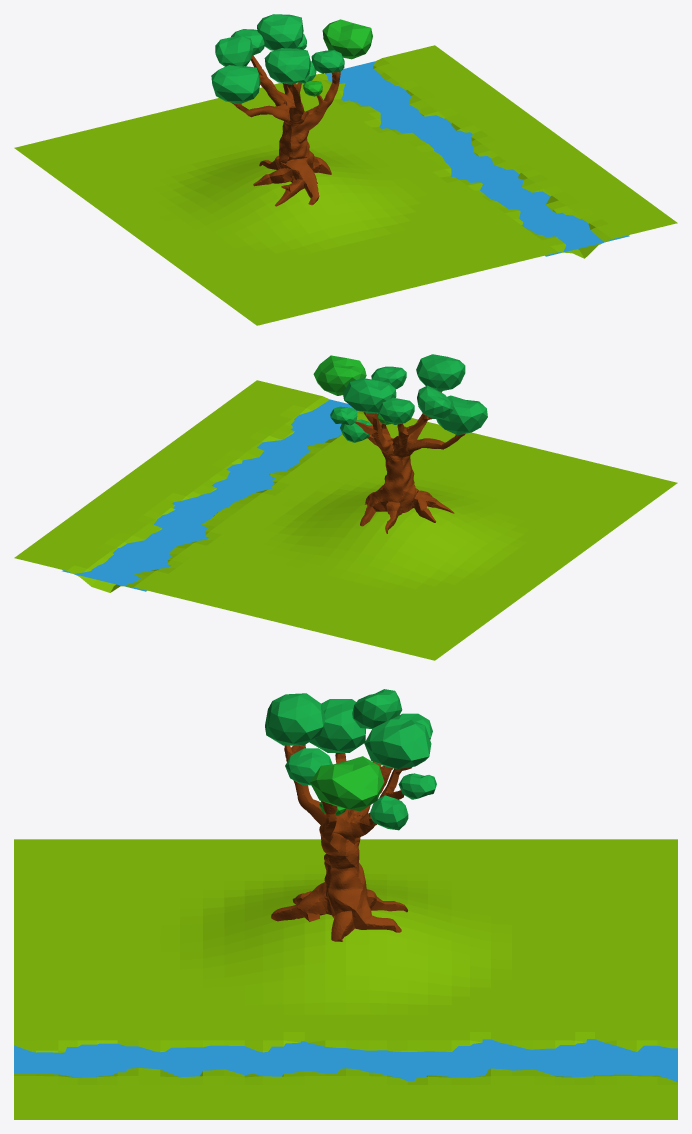
The model's file is 지형나무메테리얼.fbx.
3 renders of one model, top to bottom at view 1: azimuth 30°, elevation 25°; view 2: azimuth 150°, elevation 25°; view 3: azimuth 270°, elevation 25°, orthographic. The views are drawn at different scales.
Visible parts, largest first — view 1: Plane, Plane.001, Plane.003, Icosphere.011, Icosphere.001, Icosphere.005, Icosphere, Icosphere.008, Icosphere.002; view 2: Plane, Plane.001, Plane.003, Icosphere, Icosphere.001, Icosphere.005, Icosphere.011, Icosphere.008, Icosphere.007, Icosphere.002; view 3: Plane, Plane.001, Plane.003, Icosphere.001, Icosphere.005, Icosphere, Icosphere.011, Icosphere.008, Icosphere.002, Icosphere.012, Icosphere.010.
Part boxes in pixels (left/top/right/bottom): Plane: left=14, top=45, right=677, bottom=325; Plane.001: left=325, top=61, right=629, bottom=256; Plane.003: left=230, top=55, right=340, bottom=206; Icosphere.011: left=211, top=65, right=260, bottom=103; Icosphere.001: left=322, top=19, right=372, bottom=59; Icosphere.005: left=257, top=14, right=303, bottom=50; Icosphere: left=264, top=48, right=310, bottom=84; Icosphere.008: left=215, top=36, right=253, bottom=66; Icosphere.002: left=311, top=50, right=344, bottom=73; Plane: left=14, top=380, right=677, bottom=660; Plane.001: left=62, top=399, right=359, bottom=591; Plane.003: left=355, top=391, right=465, bottom=533; Icosphere: left=416, top=354, right=465, bottom=391; Icosphere.001: left=313, top=355, right=366, bottom=395; Icosphere.005: left=343, top=378, right=396, bottom=413; Icosphere.011: left=436, top=395, right=487, bottom=434; Icosphere.008: left=417, top=385, right=453, bottom=418; Icosphere.007: left=378, top=397, right=414, bottom=424; Icosphere.002: left=371, top=366, right=406, bottom=389; Plane: left=14, top=839, right=677, bottom=1119; Plane.001: left=14, top=1039, right=677, bottom=1082; Plane.003: left=271, top=744, right=412, bottom=941; Icosphere.001: left=310, top=756, right=384, bottom=811; Icosphere.005: left=364, top=719, right=431, bottom=768; Icosphere: left=265, top=693, right=325, bottom=745; Icosphere.011: left=309, top=699, right=365, bottom=752; Icosphere.008: left=352, top=689, right=402, bottom=728; Icosphere.002: left=285, top=748, right=332, bottom=785; Icosphere.012: left=370, top=795, right=408, bottom=830; Icosphere.010: left=398, top=773, right=436, bottom=799.
Bounding box in the file's own units: 3000 × 1253 × 3000.
